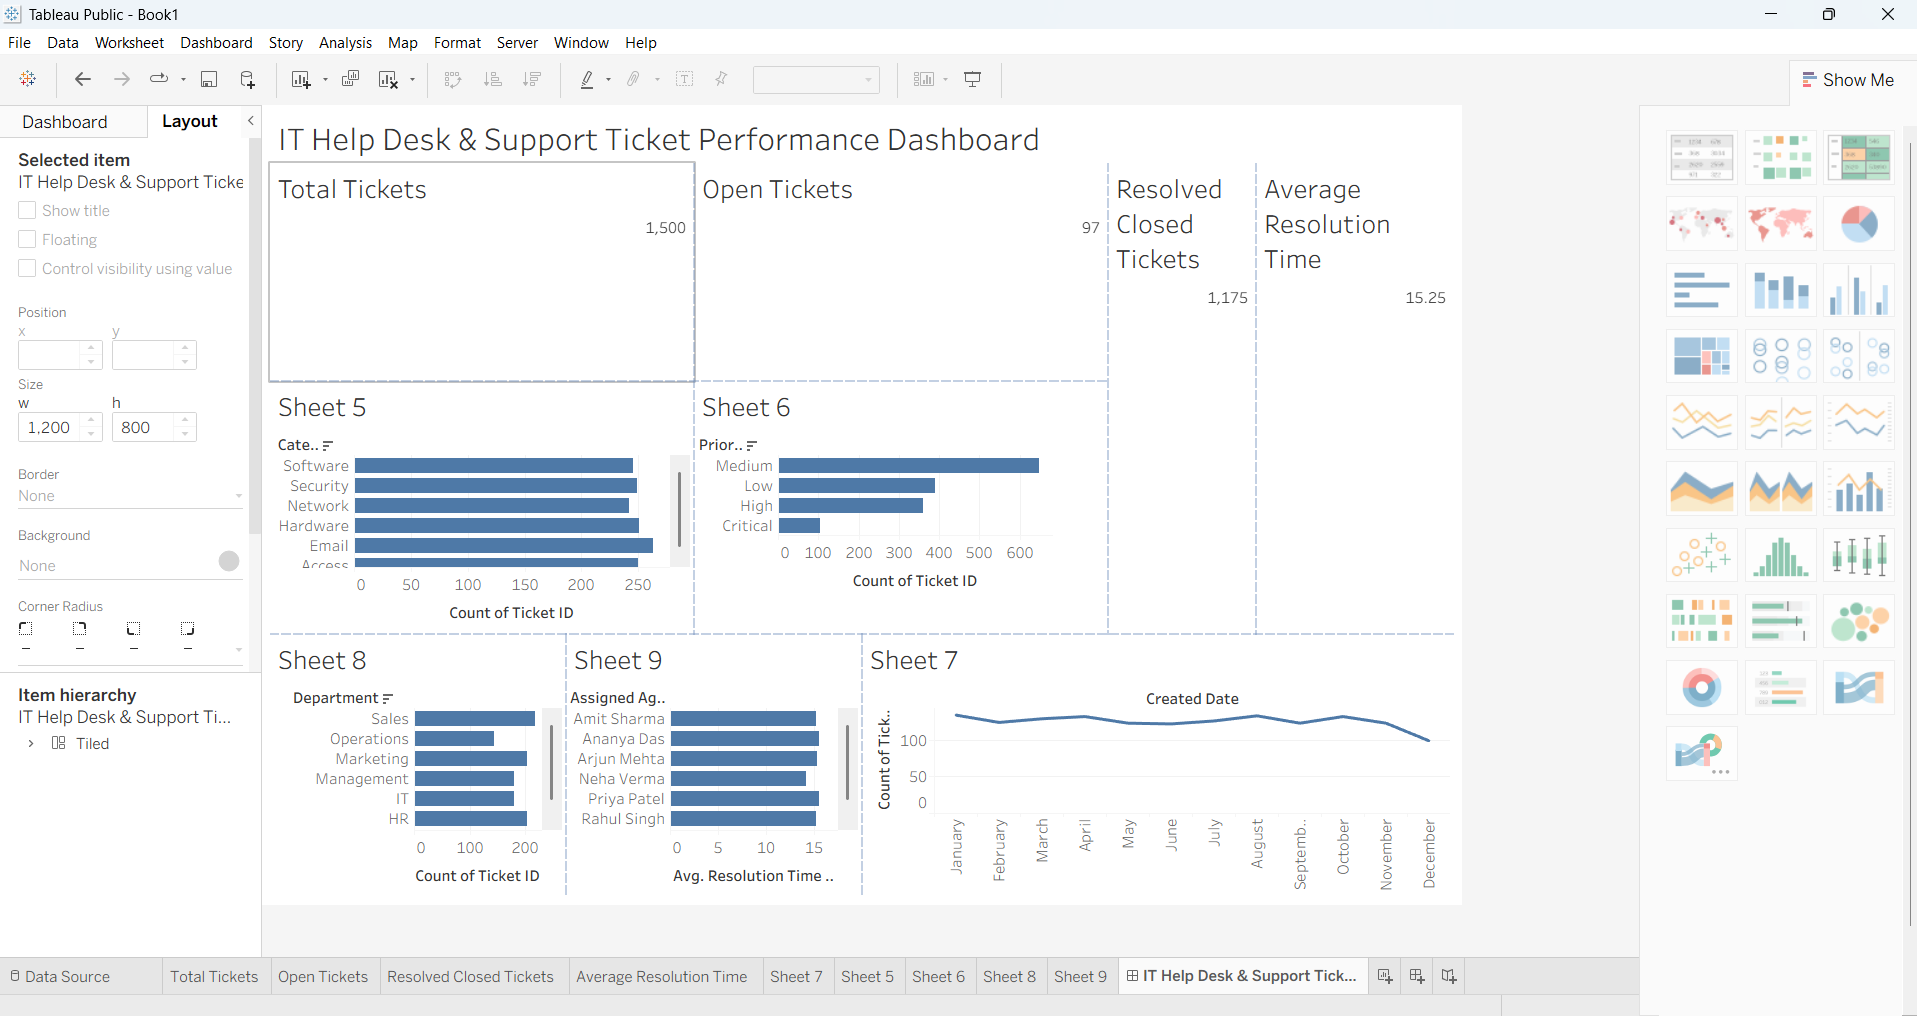

What the dashboard file says about the page in this screenshot:
{"tool":"tableau","page":{"name":"IT Help Desk & Support Ticket Performance Dashboard","canvas":[1200,800],"ordinal":0},"visuals":[{"type":"title","box":[8,8,1184,50]},{"type":"worksheet","title":"Total Tickets","mark":"Automatic","box":[8,58,424,218.1]},{"type":"worksheet","title":"Open Tickets","mark":"Automatic","box":[432,58,414,218.1]},{"type":"worksheet","title":"Resolved Closed Tickets","mark":"Automatic","box":[846,58,148,470.9]},{"type":"worksheet","title":"Average Resolution Time","mark":"Automatic","box":[994,58,198,470.9]},{"type":"worksheet","title":"Sheet 5","mark":"Automatic","rows":["Category"],"cols":["Ticket_ID"],"box":[8,276.1,424,252.8]},{"type":"worksheet","title":"Sheet 6","mark":"Automatic","rows":["Priority"],"cols":["Ticket_ID"],"box":[432,276.1,414,252.8]},{"type":"worksheet","title":"Sheet 8","mark":"Automatic","rows":["Department"],"cols":["Ticket_ID"],"box":[8,528.9,296,263.1]},{"type":"worksheet","title":"Sheet 9","mark":"Automatic","rows":["Assigned_Agent"],"cols":["Resolution_Time_Hours"],"box":[304,528.9,296,263.1]},{"type":"worksheet","title":"Sheet 7","mark":"Automatic","rows":["Ticket_ID"],"cols":["Created_Date"],"box":[600,528.9,592,263.1]}]}

Visuals, with their boxes on the page's 1200x800 design canvas (x1, y1, x2, y2). These are canvas units, not pixel positions in the 1917x1016 screenshot, which may show the page scaled, cropped or inside an application window:
title: l=8, t=8, r=1192, b=58
"Total Tickets" worksheet: l=8, t=58, r=432, b=276
"Open Tickets" worksheet: l=432, t=58, r=846, b=276
"Resolved Closed Tickets" worksheet: l=846, t=58, r=994, b=529
"Average Resolution Time" worksheet: l=994, t=58, r=1192, b=529
"Sheet 5" worksheet: l=8, t=276, r=432, b=529
"Sheet 6" worksheet: l=432, t=276, r=846, b=529
"Sheet 8" worksheet: l=8, t=529, r=304, b=792
"Sheet 9" worksheet: l=304, t=529, r=600, b=792
"Sheet 7" worksheet: l=600, t=529, r=1192, b=792
